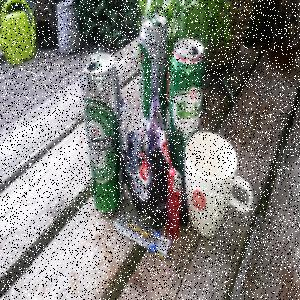Can: (81, 53, 126, 215), (170, 39, 207, 134), (140, 14, 170, 120)
